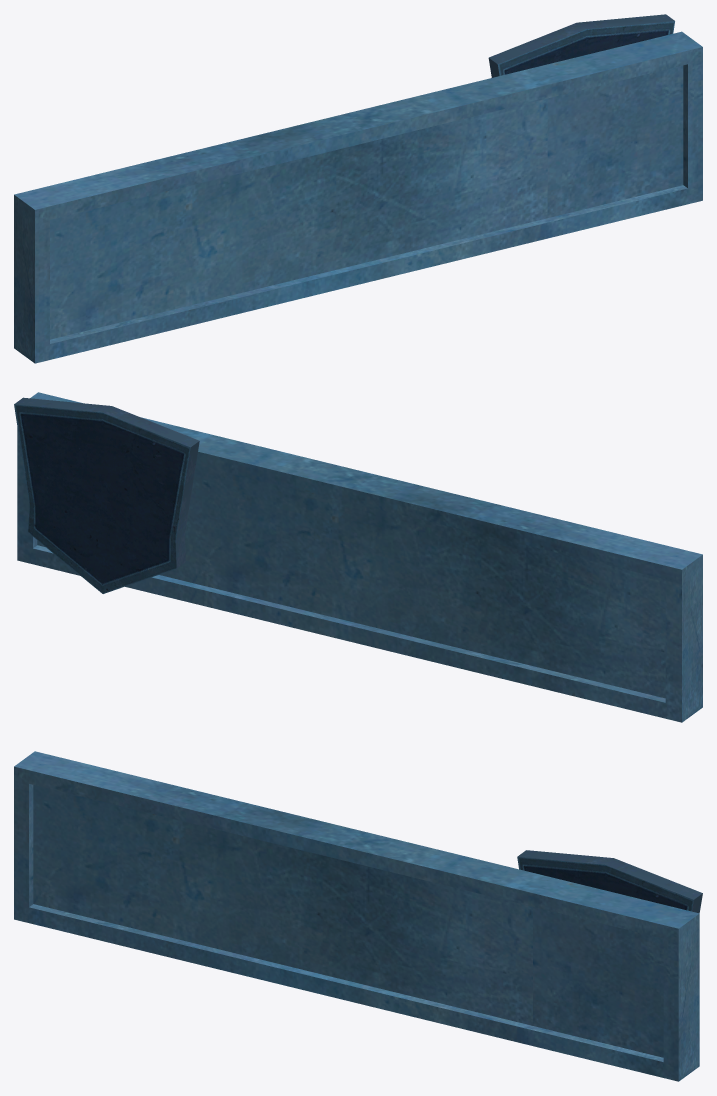
Rendered from Building_Pz02.glb.
3 renders of one model, top to bottom at view 1: azimuth 30°, elevation 25°; view 2: azimuth 150°, elevation 25°; view 3: azimuth 330°, elevation 25°, orthographic.
Parts seen in each view (by area): view 1: xiutz_pz02; view 2: xiutz_pz02; view 3: xiutz_pz02.
Boxes of the visible parts, box(x1,y1,x2,y2) form: xiutz_pz02: box(14, 14, 702, 363); xiutz_pz02: box(14, 392, 702, 722); xiutz_pz02: box(14, 751, 702, 1081).
Size of the model in its own units: 7.02 by 1.83 by 0.5574.
1 material, 1 textured.
